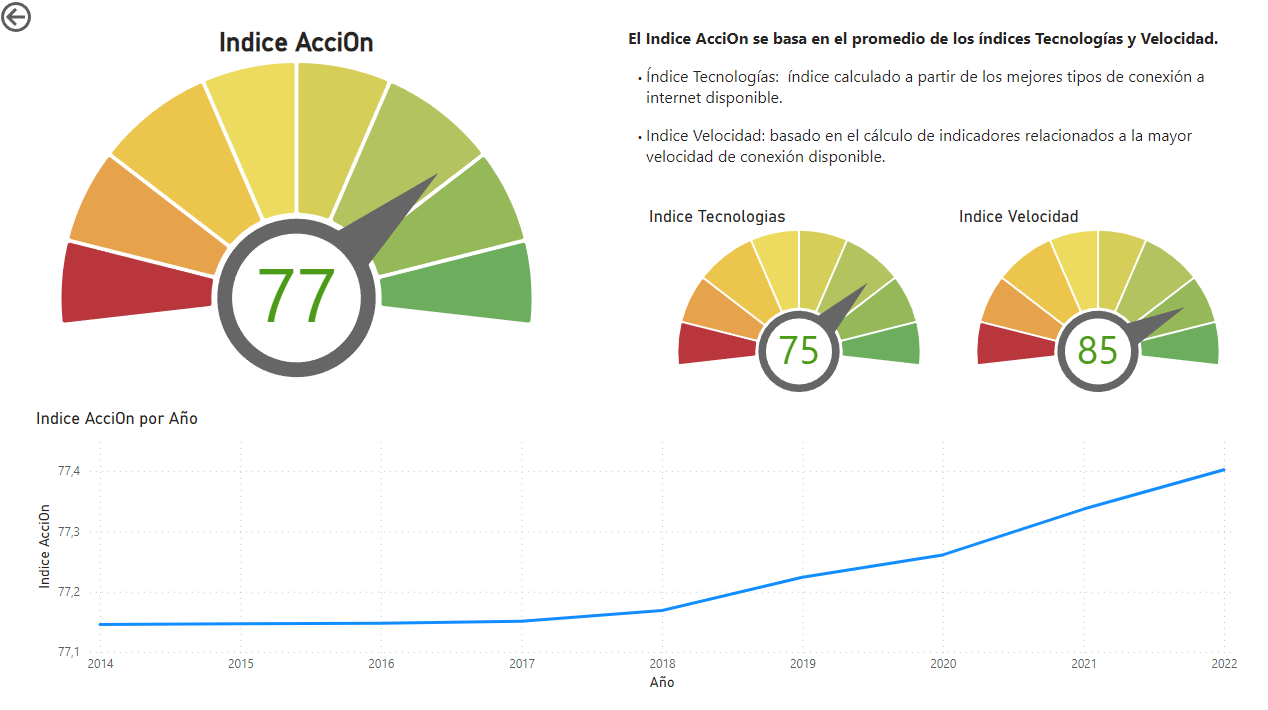

This screenshot's page, from the dashboard's own definition file:
{"tool":"powerbi","page":{"name":"Indice AcciOn","canvas":[1280,720],"ordinal":2},"visuals":[{"type":"te10180DAFCC6814BA88D4853A092161FF3","fields":{"measure":["Penetracion-totales.Indice AcciOn"]},"box":[58.8,28.9,483.5,372.2],"z":0},{"type":"te10180DAFCC6814BA88D4853A092161FF3","title":"Indice Velocidad","fields":{"measure":["Internet_Accesos-por-velocidad (1).Indice Velocidad 2"]},"box":[957.7,209.3,288.7,199],"z":1000},{"type":"te10180DAFCC6814BA88D4853A092161FF3","title":"Indice Tecnologias","fields":{"measure":["Internet_Accesos-por-tecnologia.Indice Tecnologias 2"]},"box":[648.5,209.3,309.3,199],"z":2000},{"type":"textbox","box":[626.8,24.7,619.6,149.5],"z":3000},{"type":"actionButton","box":[0,0,100,40],"z":4000},{"type":"lineChart","fields":{"Y":["Penetracion-totales.Indice AcciOn"],"Category":["Internet_Accesos-por-tecnologia.Fecha.Variación.Jerarquía de fechas.Año"]},"box":[35.1,411.3,1211.3,286.6],"z":5000}]}

Visuals, with their boxes in screenshot pixels (x1, y1, x2, y2), scaled from the page's 1280x720 canvas onto the 1268x710 screenshot:
te10180DAFCC6814BA88D4853A092161FF3 - Penetracion-totales.Indice AcciOn: [58, 28, 537, 396]
"Indice Velocidad" te10180DAFCC6814BA88D4853A092161FF3: [949, 206, 1235, 403]
"Indice Tecnologias" te10180DAFCC6814BA88D4853A092161FF3: [642, 206, 949, 403]
textbox: [621, 24, 1235, 172]
actionButton: [0, 0, 99, 39]
lineChart - Penetracion-totales.Indice AcciOn x Internet_Accesos-por-tecnologia.Fecha.Variación.Jerarquía de fechas.Año: [35, 406, 1235, 688]
